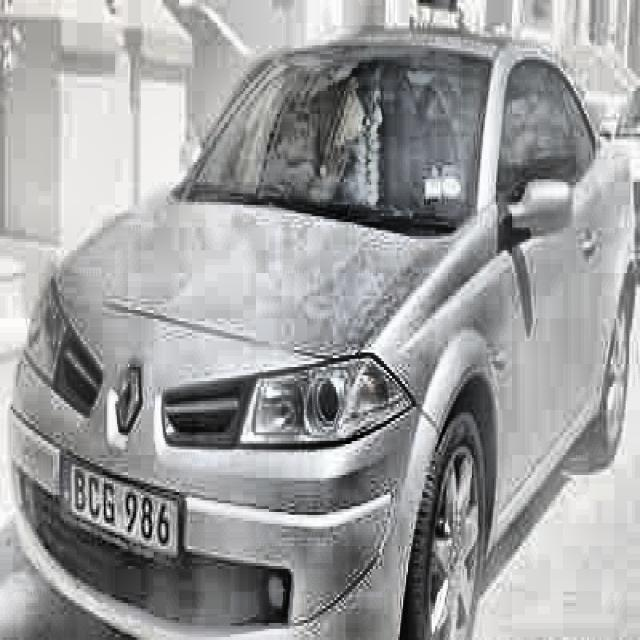license_plate: (66, 463, 173, 550)
